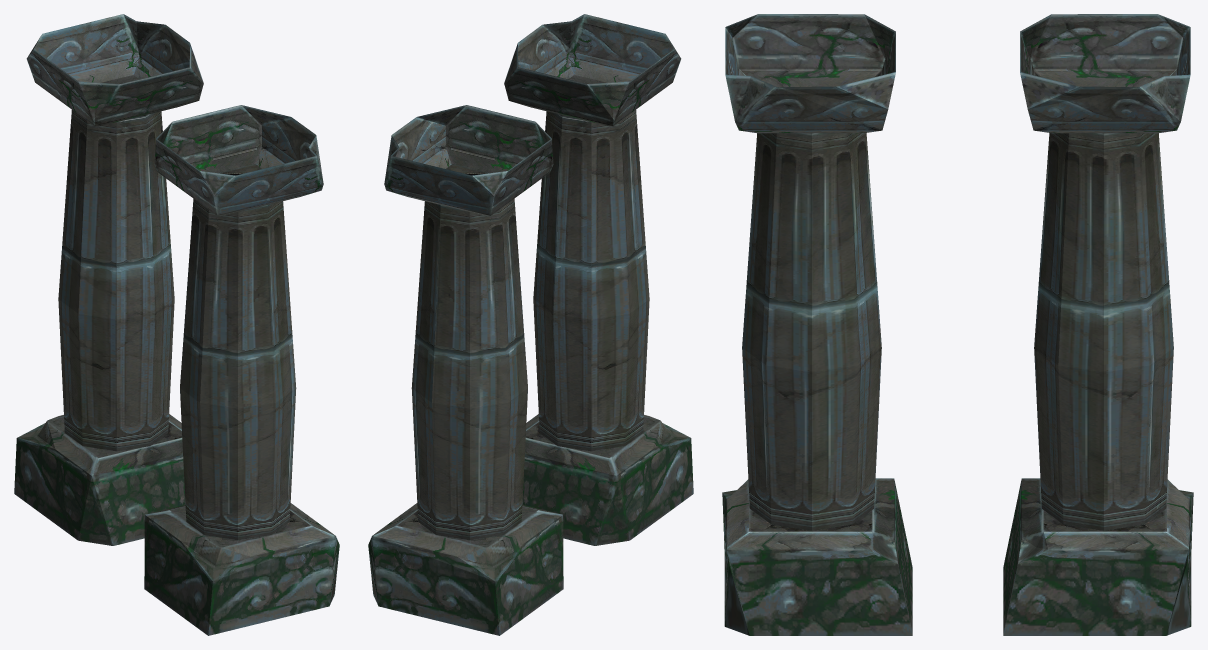
File: stemple_bridge_pillar_02.fbx
3 views of the same model, side by side, from view 1: azimuth 30°, elevation 25°; view 2: azimuth 150°, elevation 25°; view 3: azimuth 270°, elevation 25° (orthographic). The views are drawn at different scales.
Visible parts, largest first — view 1: obj0.102; view 2: obj0.102; view 3: obj0.102.
Boxes of the visible parts, x1,y1,x2,y2 form: obj0.102: (14, 14, 339, 635); obj0.102: (368, 14, 693, 635); obj0.102: (722, 14, 1193, 635).
Bounding box in the file's own units: 1.75 × 5.55 × 4.35.
